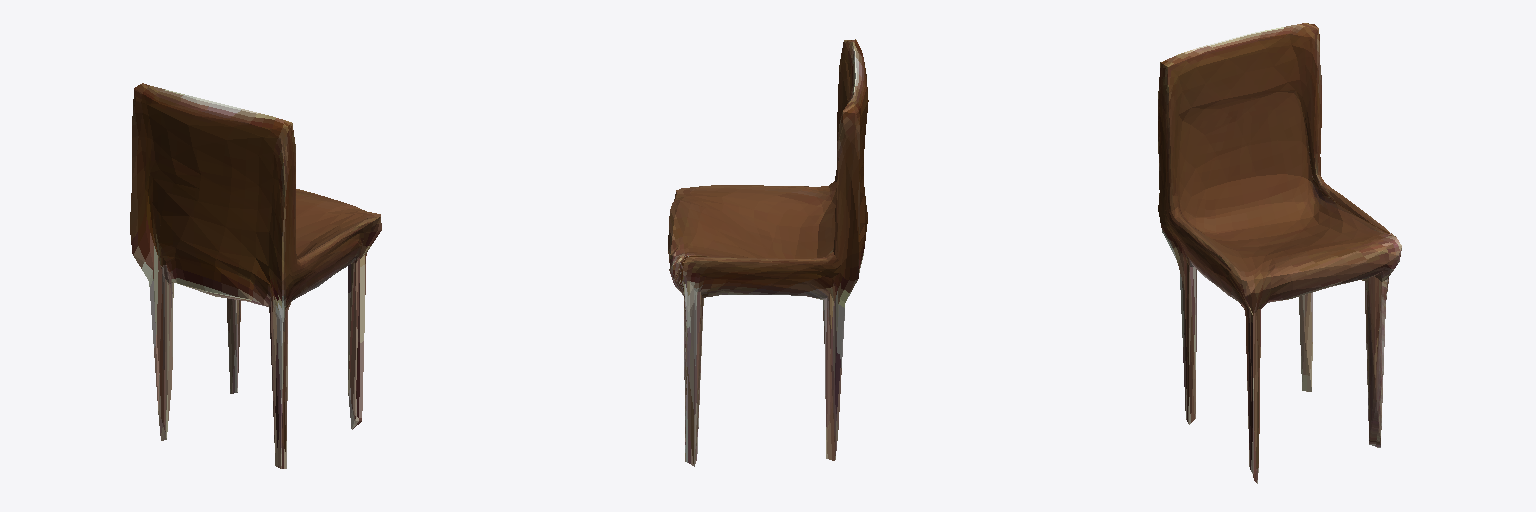
3 renders of one model, left to right at view 1: azimuth 30°, elevation 25°; view 2: azimuth 150°, elevation 25°; view 3: azimuth 270°, elevation 25°, orthographic.
Bounding box in the file's own units: 0.6096 × 1 × 0.5929.
1 materials, 1 textured.